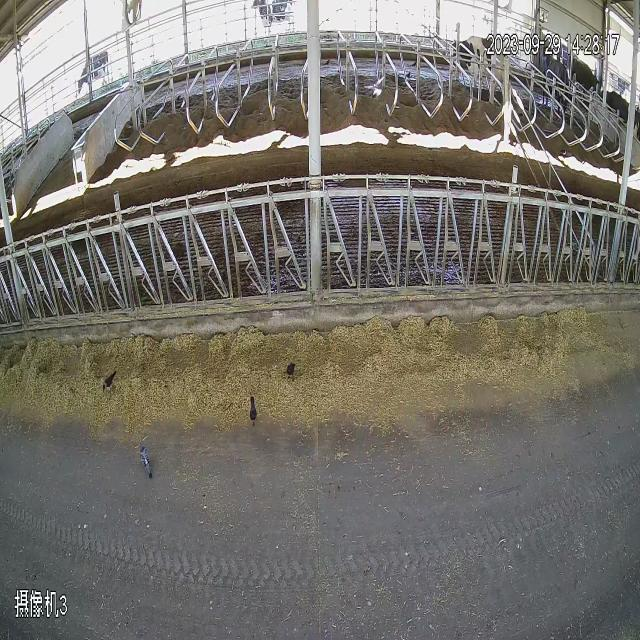standing: (66, 33, 121, 109), (532, 28, 574, 111), (249, 0, 309, 40), (460, 28, 500, 86)
